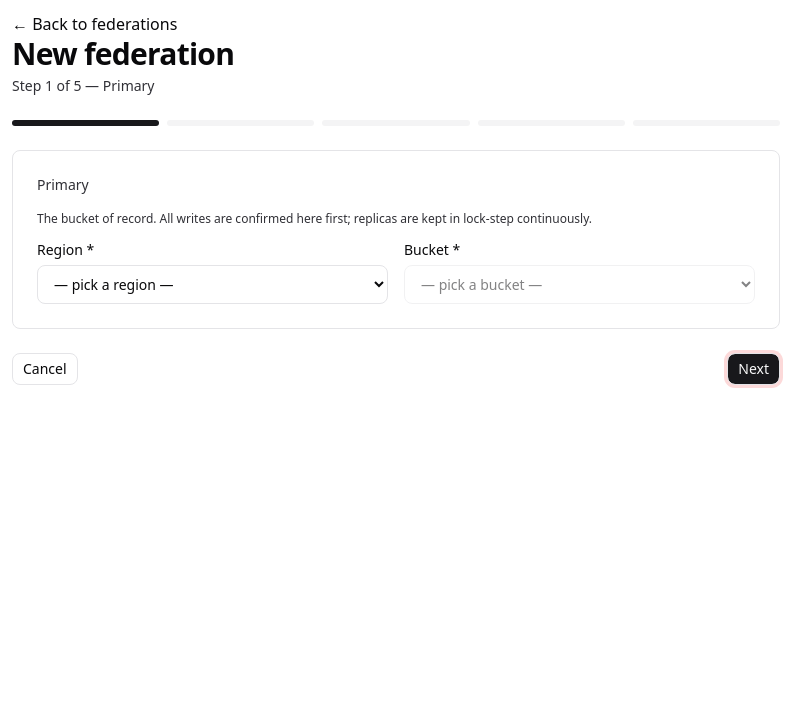
NewFederationPage (/files/federated-buckets/new) › advances through Step 2 (Replicas) and shows an error when the row is empty
Select "home" in the dropdown labelled "Region *" at point(212, 284), box x1=37 y1=265 x2=388 y2=304
Select "photos" in the dropdown labelled "Bucket *" at point(580, 284), box x1=404 y1=265 x2=755 y2=304
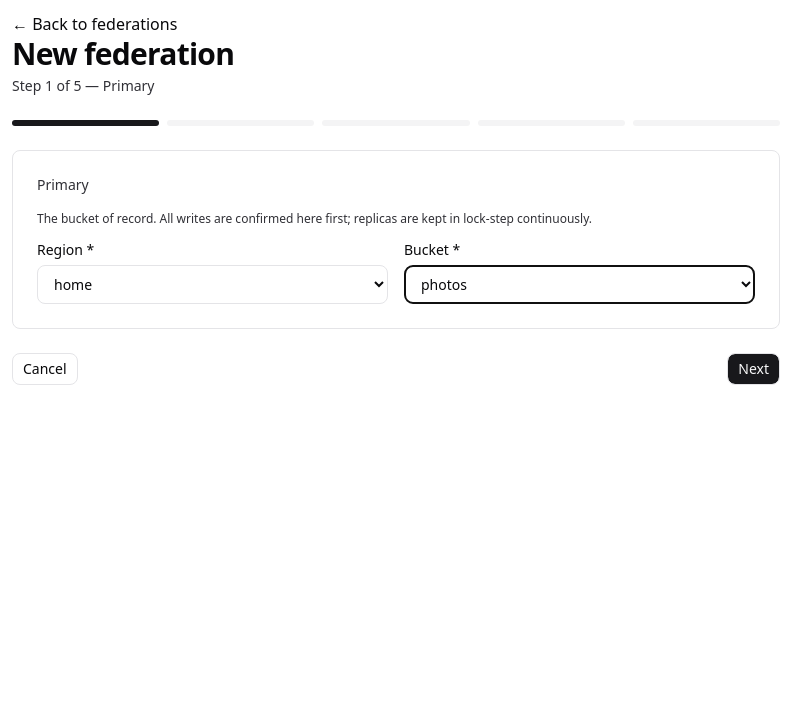
Click the button "Next".
click(754, 369)  # box x1=727 y1=353 x2=780 y2=385
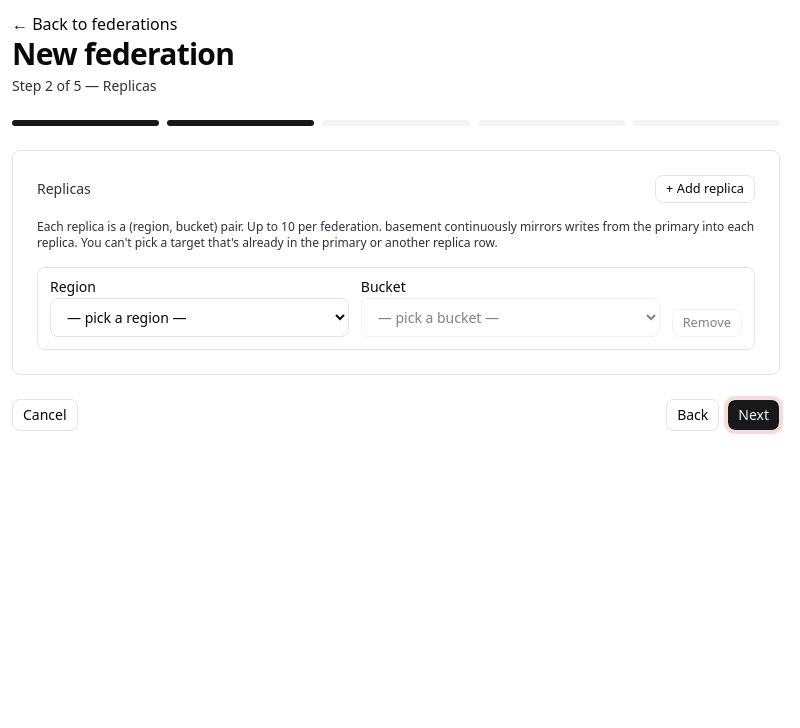
Check: the text "Step 2 of 5 — Replicas" is shown, box x1=12 y1=76 x2=156 y2=95
Click the button "Next".
click(754, 415)  # box x1=727 y1=399 x2=780 y2=431
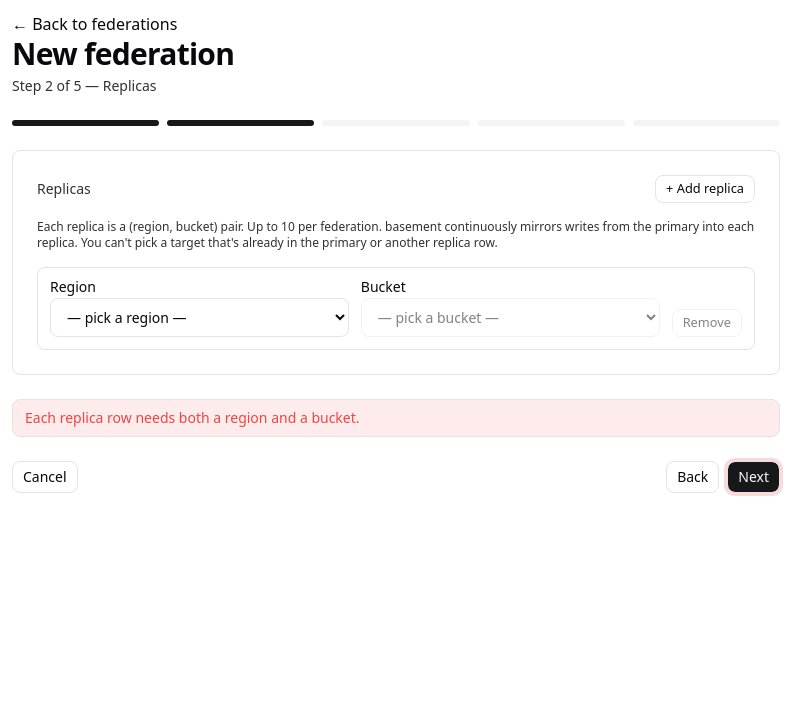
Check: the text "Step 2 of 5 — Replicas" is shown, box x1=12 y1=76 x2=156 y2=95
Check: the message with test id "step-error" shows "region and a bucket", box x1=25 y1=408 x2=360 y2=427
Select "b2-offsite" in the dropdown labelled "Region" at point(199, 318), box x1=50 y1=298 x2=349 y2=337
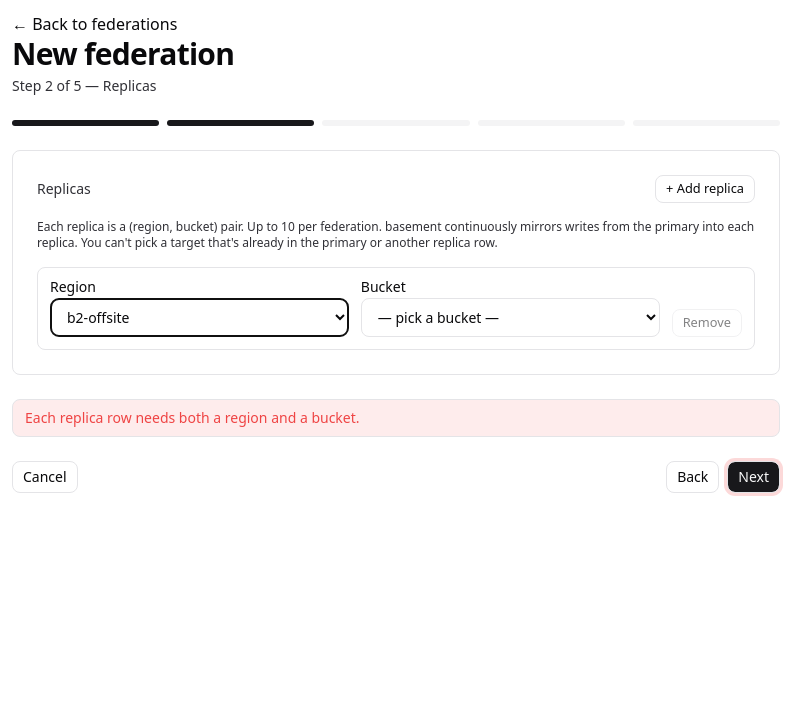
Select "docs" in the dropdown labelled "Bucket" at point(510, 318), box x1=361 y1=298 x2=660 y2=337
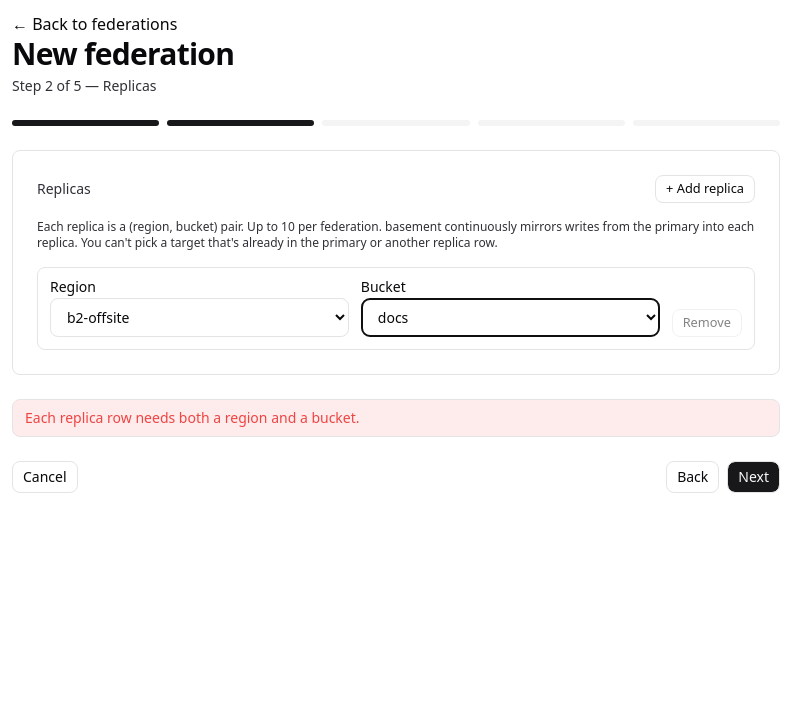
Click the button "Next".
click(754, 477)  # box x1=727 y1=461 x2=780 y2=493
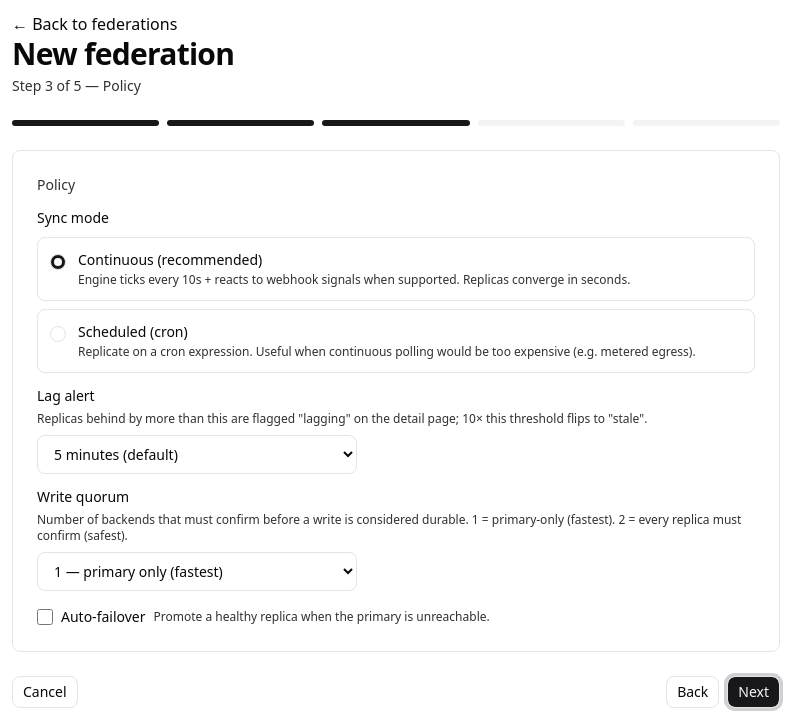
Check: the text "Step 3 of 5 — Policy" is shown, box x1=12 y1=76 x2=141 y2=95
